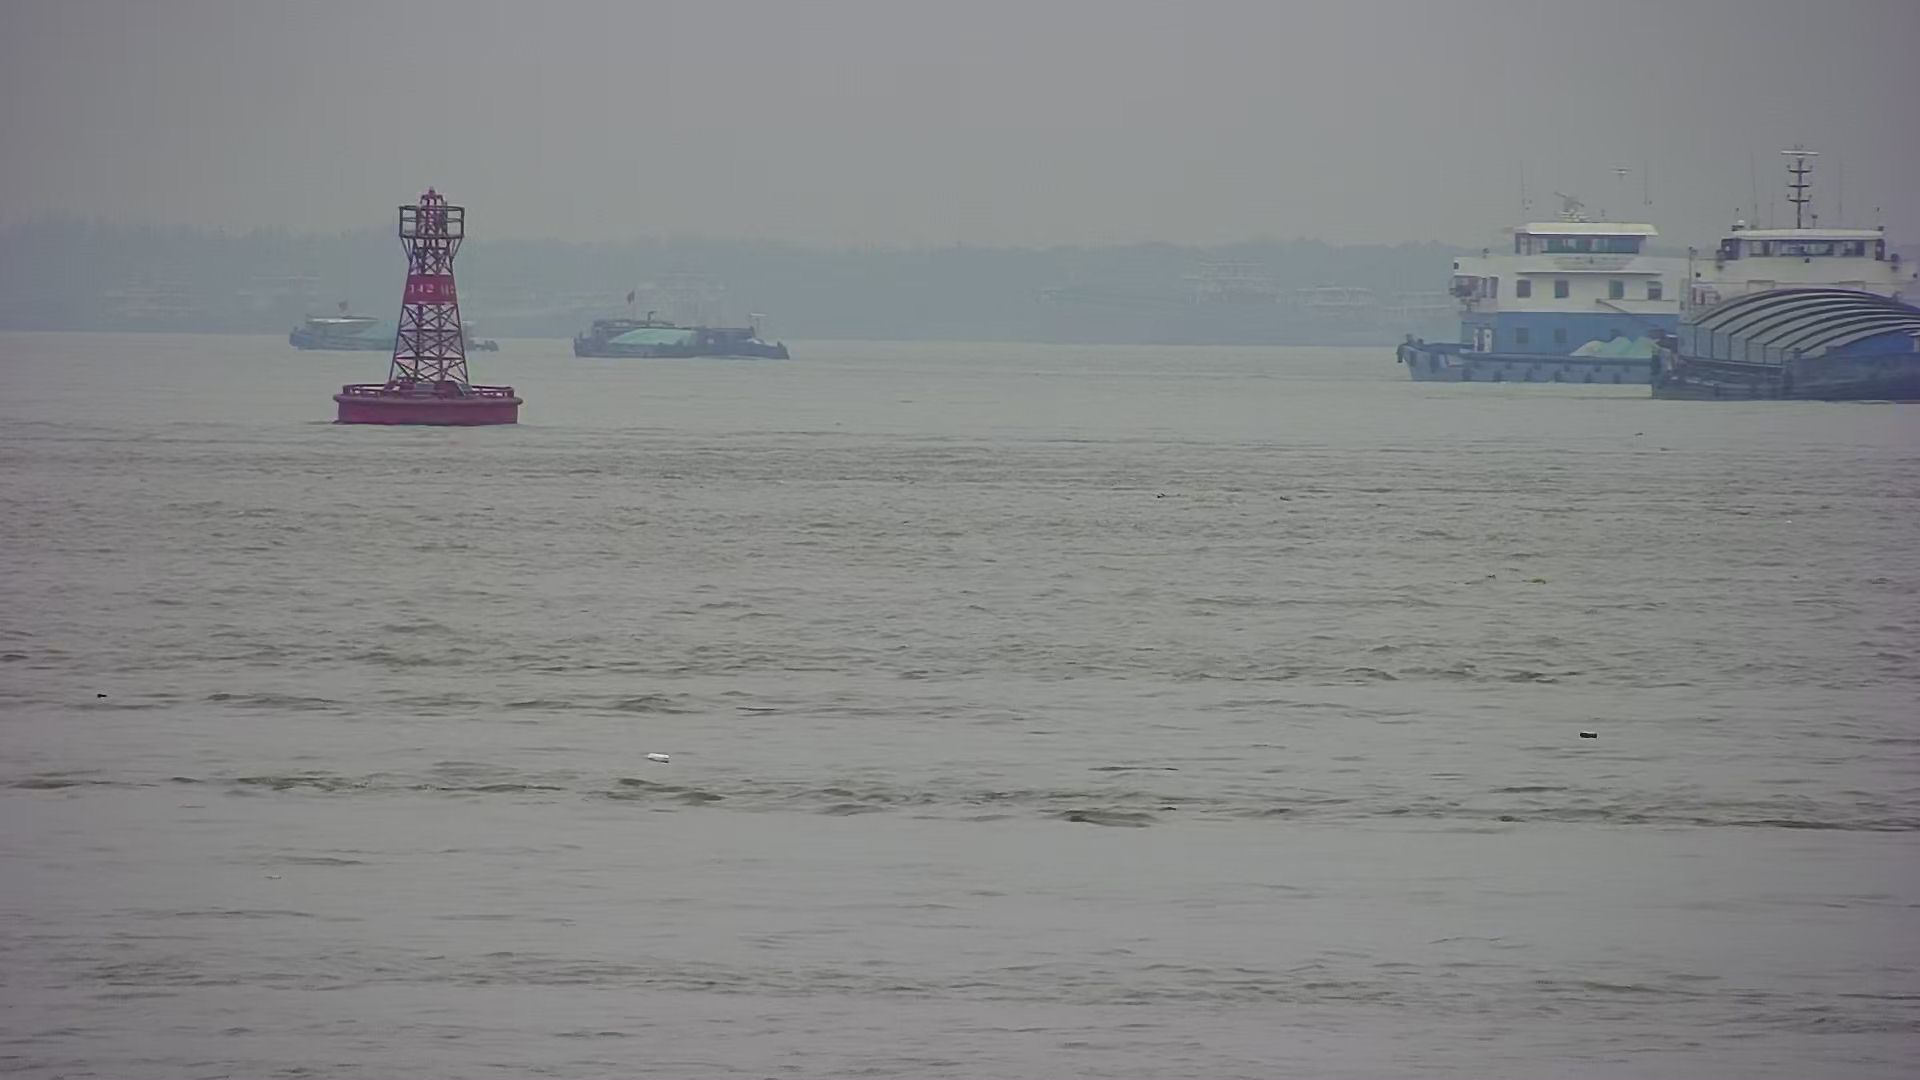platform: (332, 182, 524, 429)
ship: (1658, 152, 1915, 415), (1404, 220, 1689, 392), (560, 310, 791, 363), (278, 309, 502, 356)
